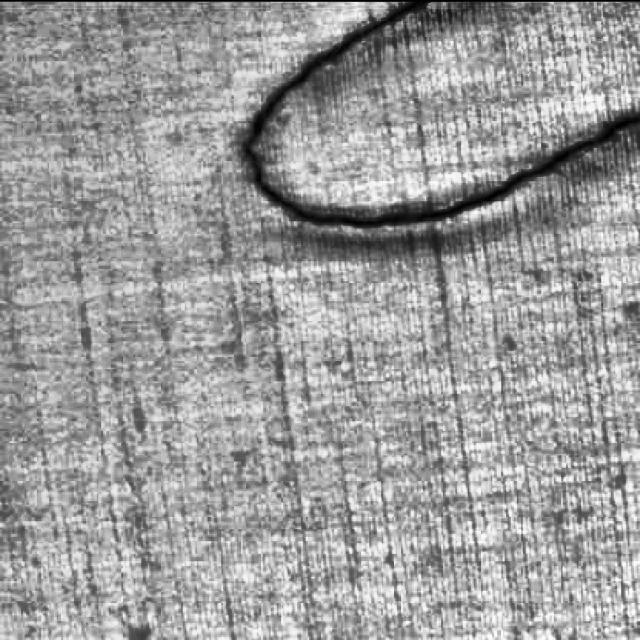objects: (224, 2, 640, 247)
